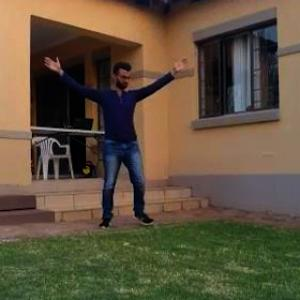takeoff: (35, 50, 190, 224)
